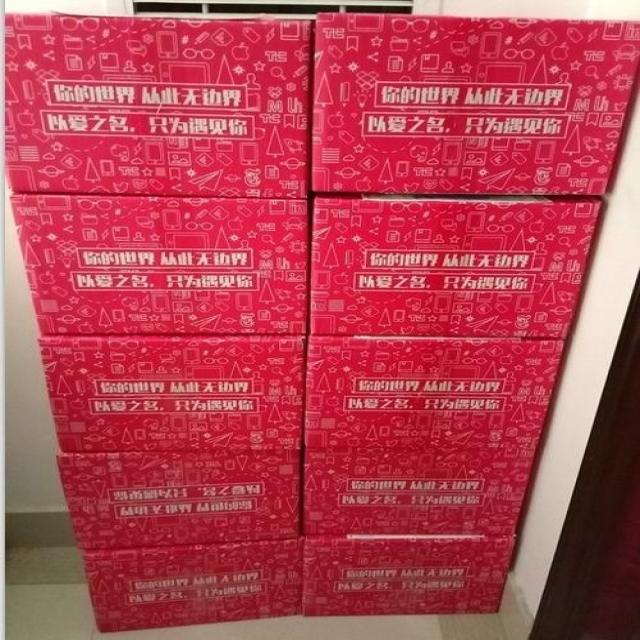box: (311, 13, 638, 195), (4, 13, 312, 199), (9, 192, 308, 334), (309, 195, 602, 338), (38, 334, 307, 453), (304, 334, 565, 449), (57, 450, 300, 550), (82, 537, 303, 633), (303, 447, 535, 536), (302, 534, 516, 615)
